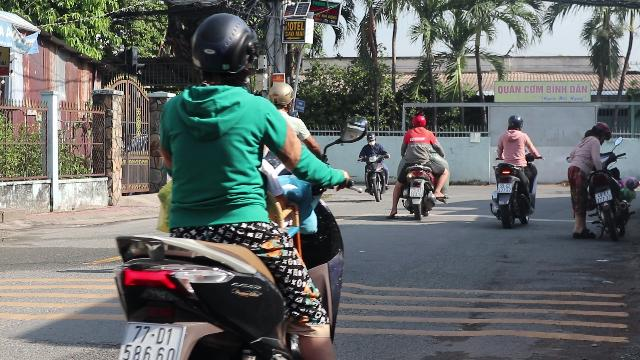helmet: (188, 12, 256, 90), (268, 81, 294, 111), (505, 115, 523, 131), (410, 114, 426, 128)
licenseplate: (119, 322, 185, 358), (409, 187, 423, 197), (497, 183, 511, 193)
motorcyclist: (104, 10, 354, 358), (389, 113, 449, 219), (489, 114, 539, 226)
